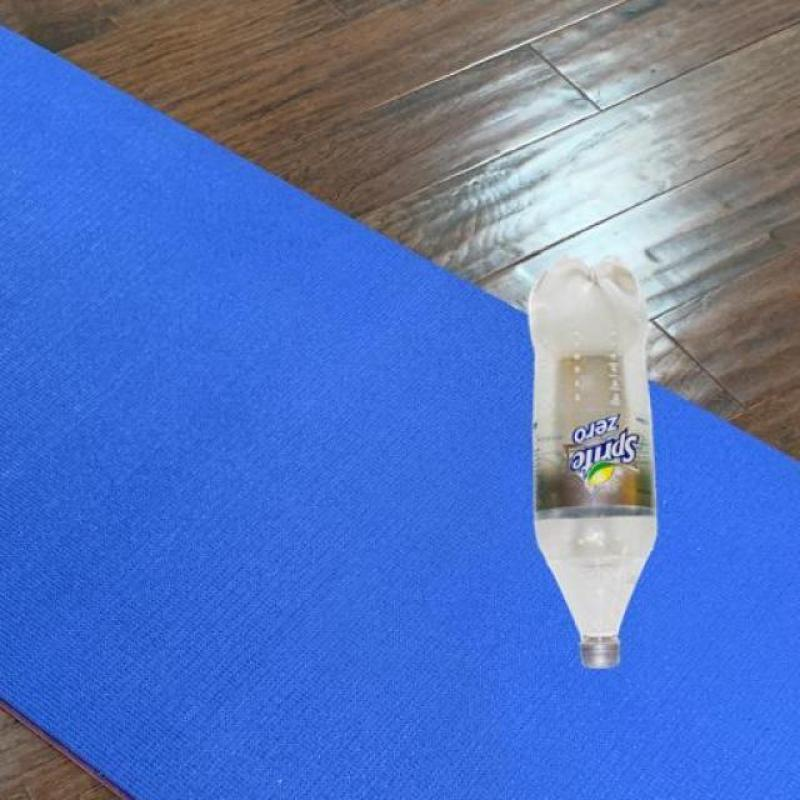botella: (526, 252, 656, 672)
